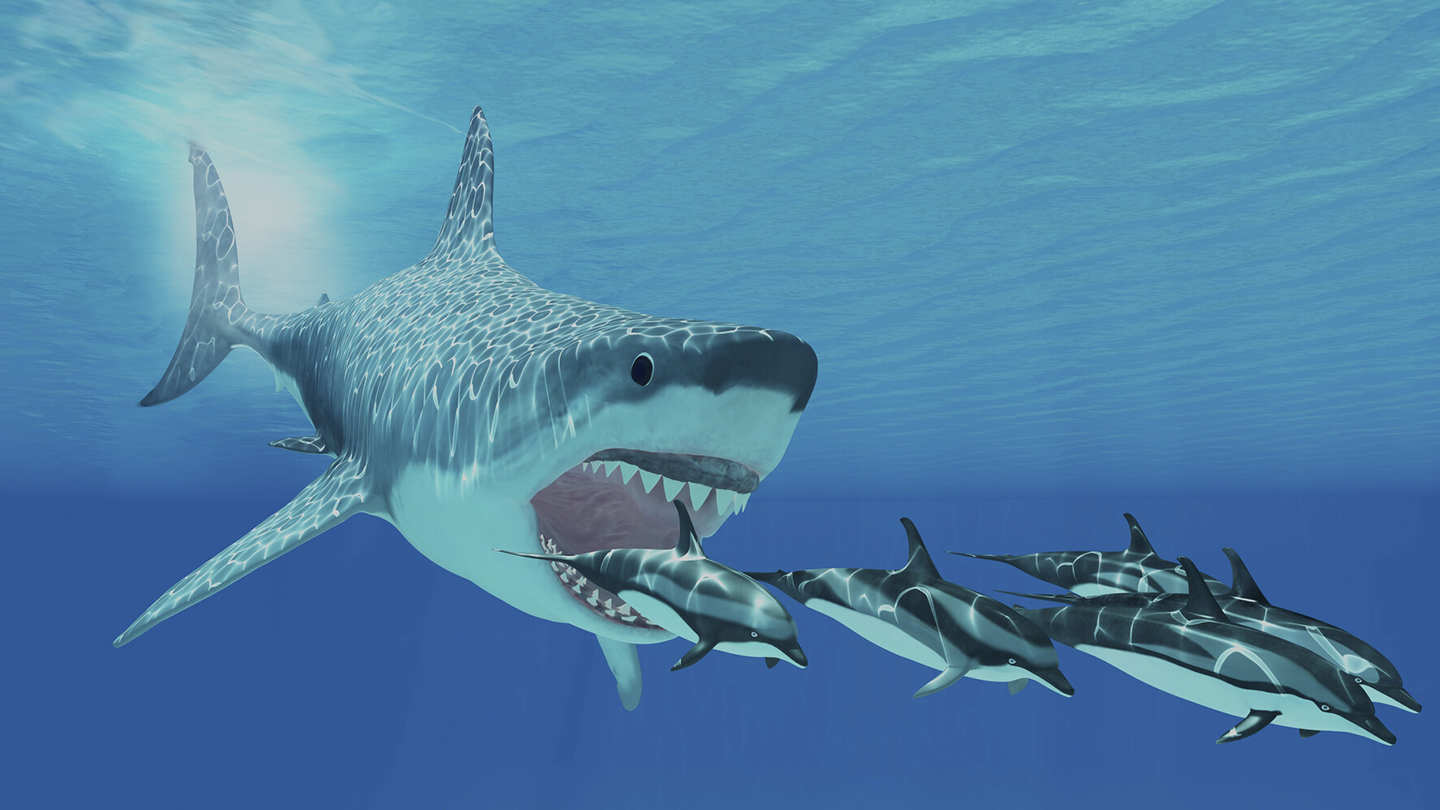Shark: (123, 104, 813, 710)
